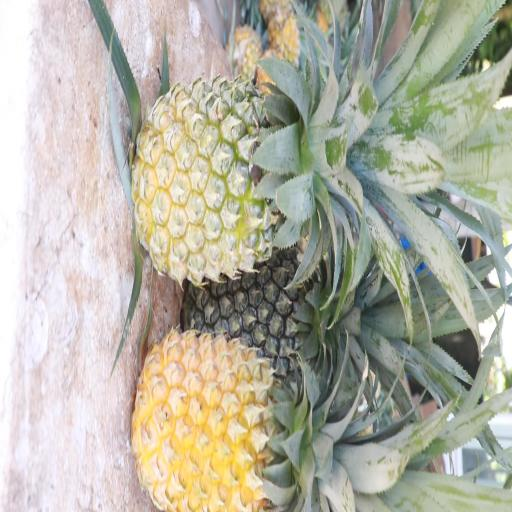------------------------------: (131, 79, 319, 279)
Pineapple - v8 v1: (140, 336, 312, 512)
